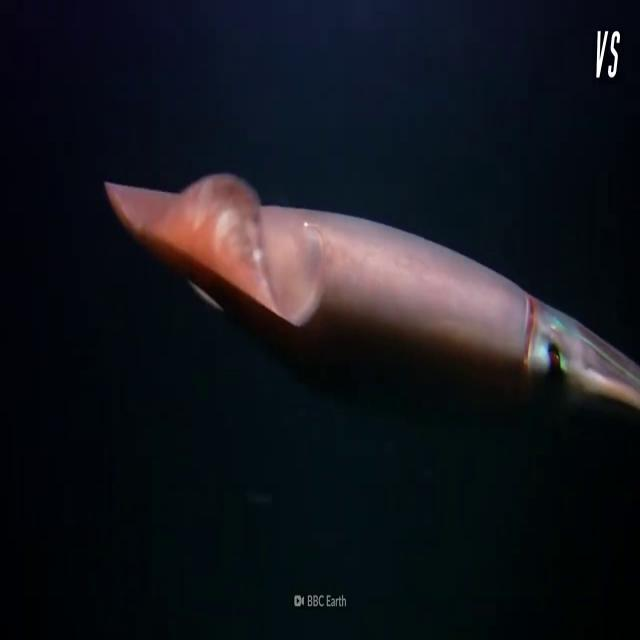squid: (105, 170, 640, 410)
